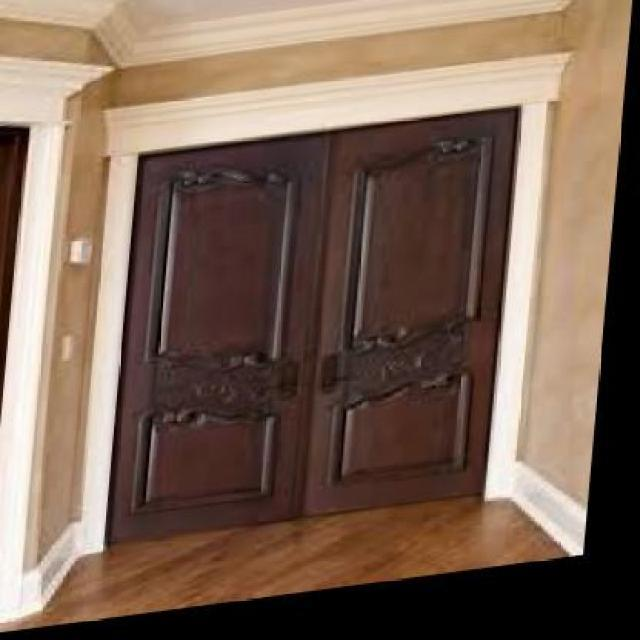door: (66, 105, 572, 550), (0, 123, 33, 408)
